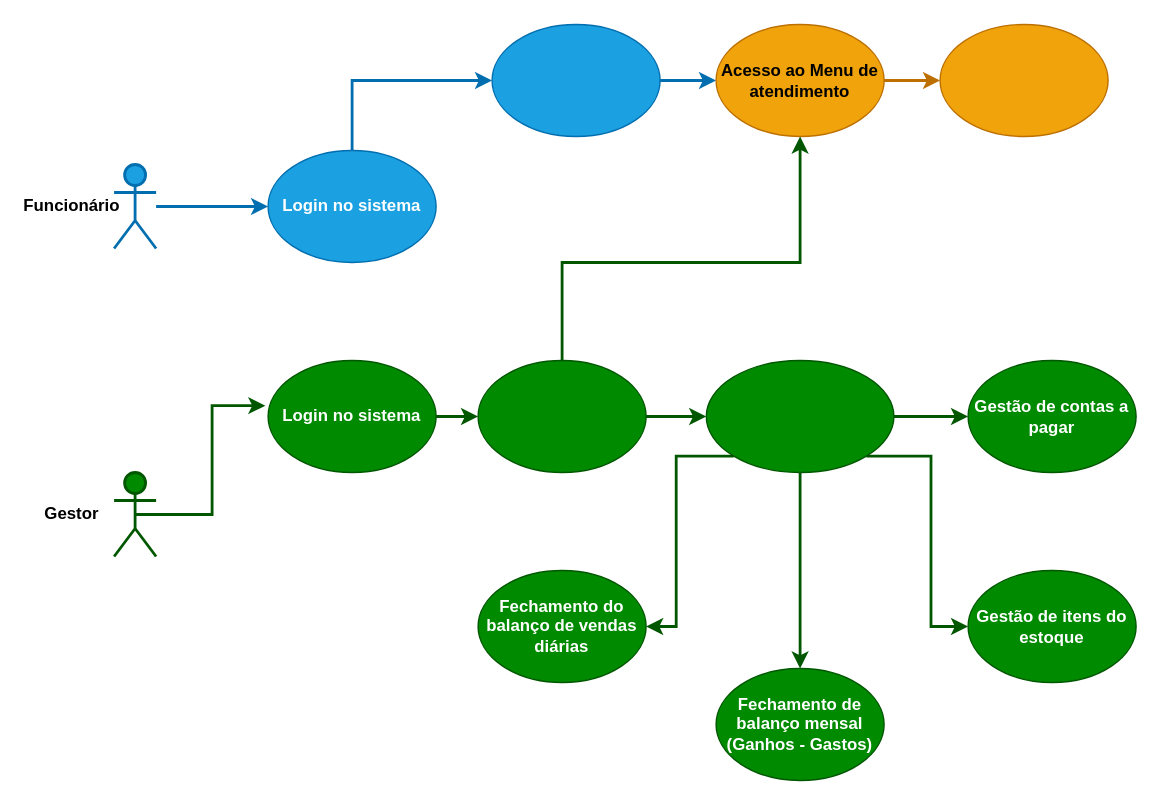
The diagram is 1161 pixels wide and 805 high, and some of its shapes have lost their labels. The box of each missing label's shape, as (x1, y1, x2, y2) in pixels:
Acesso Administrativo: (477, 359, 646, 472)
Acesso ao Menu Administrativo: (705, 359, 894, 472)
Acesso Funcionario: (491, 23, 660, 136)
Gestão de pedidos: (939, 23, 1108, 136)
